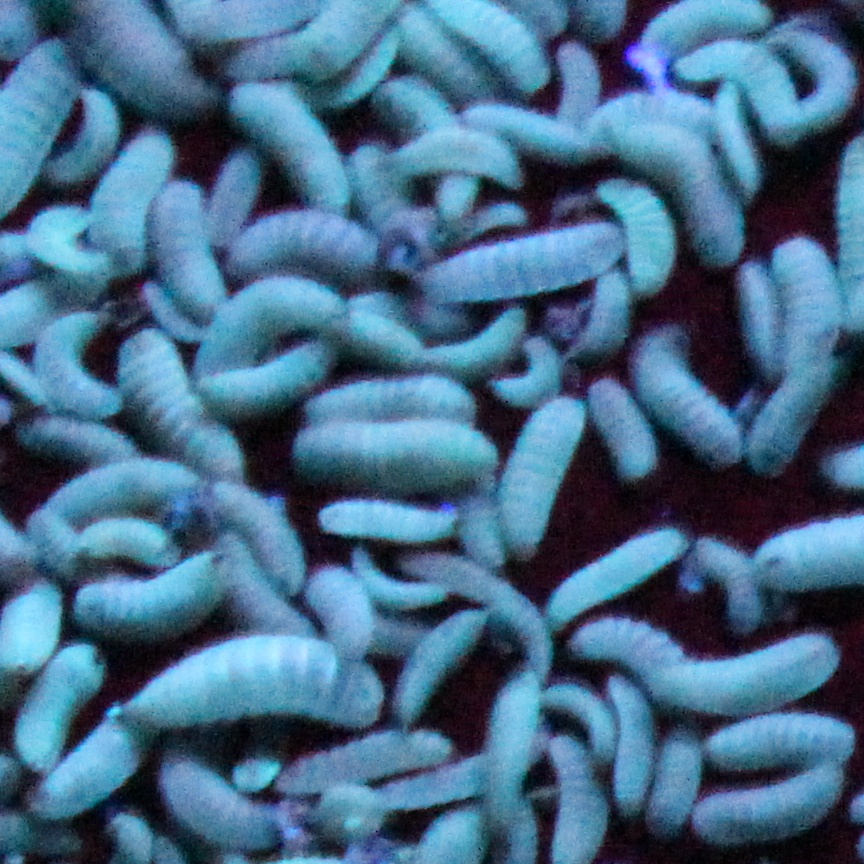larve: (133, 642, 388, 729), (615, 113, 752, 258), (117, 337, 252, 482), (415, 215, 621, 308), (59, 1, 215, 109), (401, 556, 556, 664), (494, 398, 593, 563), (628, 344, 756, 468), (229, 82, 349, 213), (652, 637, 833, 716), (201, 280, 350, 375), (87, 132, 177, 282), (29, 457, 211, 527), (9, 644, 101, 782), (74, 556, 231, 636), (699, 757, 849, 840), (294, 422, 500, 482), (677, 43, 801, 140), (211, 539, 317, 650), (24, 715, 138, 815), (269, 729, 448, 790), (154, 762, 292, 840), (549, 536, 679, 618), (229, 8, 388, 75), (146, 177, 224, 313), (207, 484, 302, 594), (770, 29, 864, 139), (438, 2, 556, 89), (397, 9, 501, 106), (577, 368, 669, 477), (632, 1, 774, 70), (208, 333, 322, 418), (400, 604, 483, 718), (771, 236, 848, 357), (232, 216, 386, 274), (750, 357, 825, 471), (40, 309, 118, 412), (600, 182, 673, 292), (455, 104, 595, 161), (301, 378, 473, 423), (388, 125, 521, 182), (45, 84, 114, 187), (392, 740, 494, 808), (728, 266, 788, 380), (707, 88, 766, 198), (21, 416, 140, 470), (595, 729, 664, 822), (70, 515, 183, 571), (311, 497, 460, 539), (564, 626, 690, 675), (705, 727, 854, 765), (311, 568, 373, 657), (700, 542, 759, 635), (658, 731, 712, 832), (355, 556, 456, 608), (405, 315, 519, 361), (204, 149, 267, 232), (22, 215, 102, 275), (552, 33, 601, 125), (333, 323, 433, 368), (126, 285, 205, 340), (487, 339, 563, 395)
